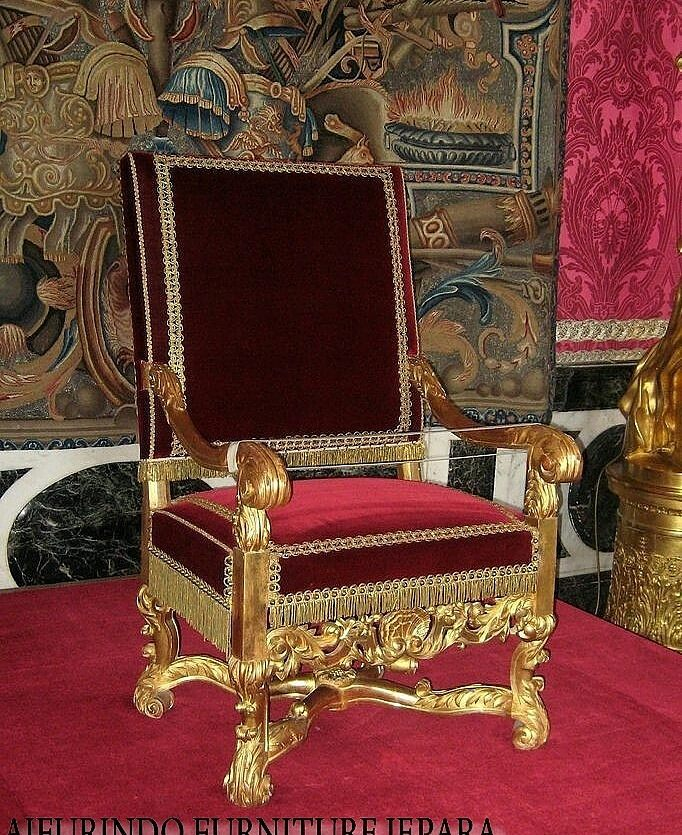Carving Chair: (116, 107, 578, 816)
